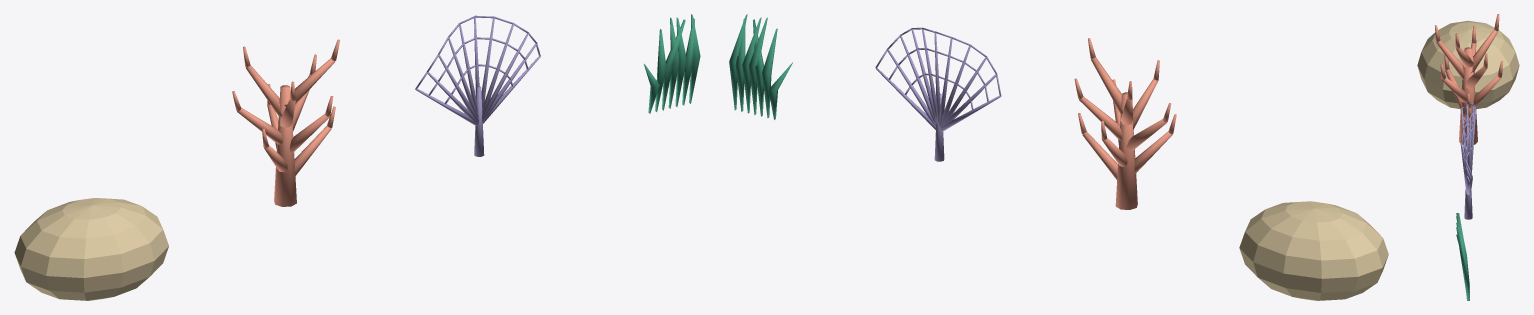
The model's file is reef-kit.glb.
3 views of the same model, side by side, from view 1: azimuth 30°, elevation 25°; view 2: azimuth 150°, elevation 25°; view 3: azimuth 270°, elevation 25° (orthographic). The views are drawn at different scales.
Parts seen in each view (by area): view 1: limestone, coral-peach, coral-lavender, seagrass-jade; view 2: limestone, coral-peach, coral-lavender, seagrass-jade; view 3: limestone, coral-peach, coral-lavender, seagrass-jade.
Boxes of the visible parts, x1,y1,x2,y2 form: limestone: (14, 198, 168, 300); coral-peach: (232, 39, 339, 206); coral-lavender: (415, 15, 540, 156); seagrass-jade: (644, 14, 700, 113); limestone: (1239, 201, 1388, 300); coral-peach: (1074, 38, 1176, 209); coral-lavender: (875, 27, 1001, 161); seagrass-jade: (729, 14, 792, 119); limestone: (1417, 20, 1519, 108); coral-peach: (1435, 14, 1502, 144); coral-lavender: (1460, 103, 1475, 219); seagrass-jade: (1456, 213, 1469, 300).
Bounding box in the file's own units: 10.49 × 2.96 × 1.7.
